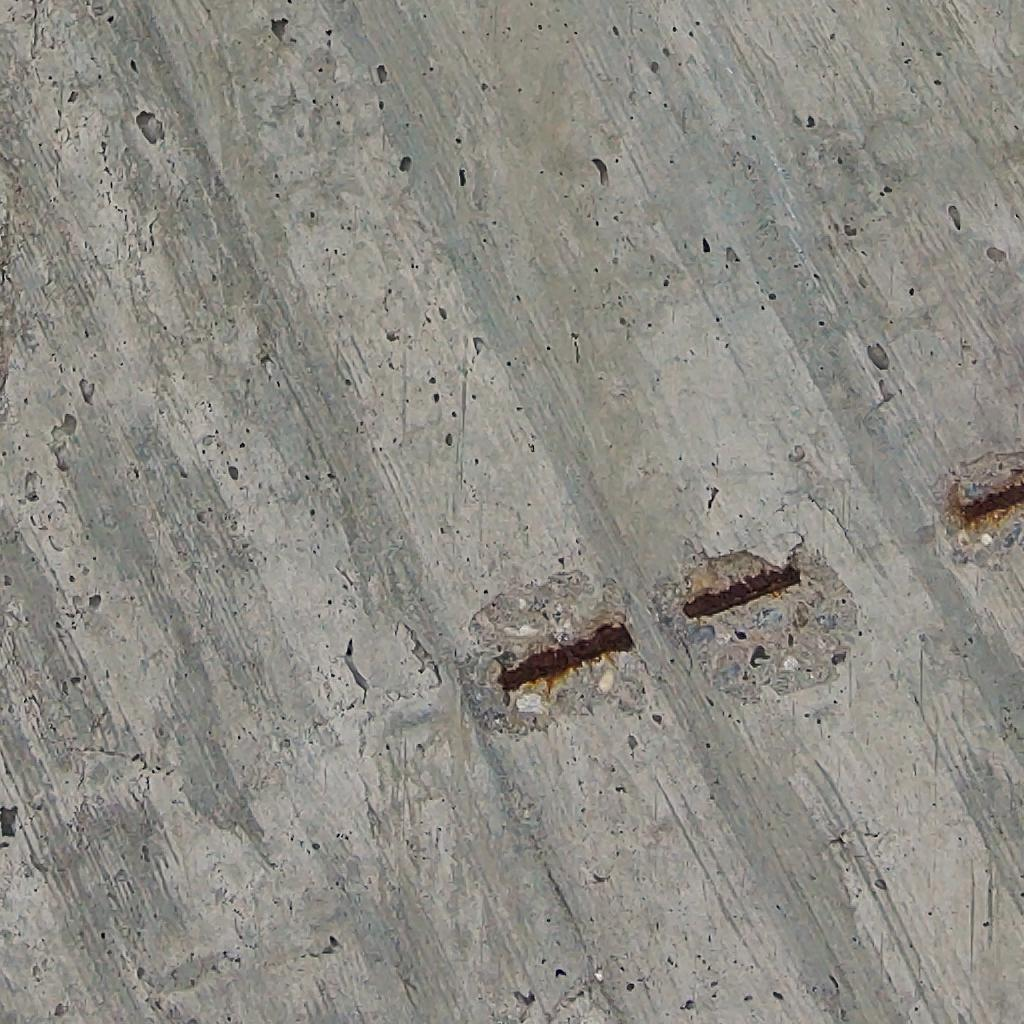exposed_rebar: (498, 624, 634, 690), (684, 564, 800, 618), (960, 481, 1024, 523)
spalling: (654, 544, 862, 702), (466, 574, 642, 733), (944, 452, 1024, 562)
